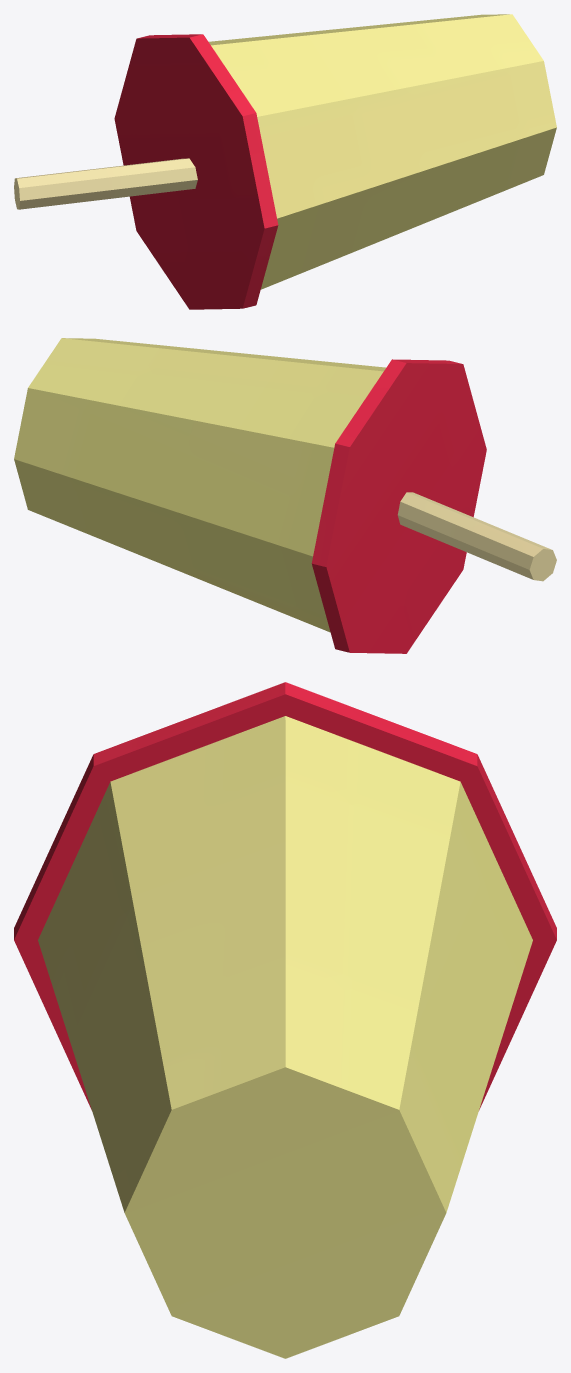
Rendered from Can01.fbx.
The picture shows the model from 3 angles, top to bottom: view 1: azimuth 30°, elevation 25°; view 2: azimuth 150°, elevation 25°; view 3: azimuth 270°, elevation 25°; orthographic projection. The views are drawn at different scales.
Visible parts, largest first — view 1: Can01; view 2: Can01; view 3: Can01.
Boxes of the visible parts, bbox=[...] form: Can01: bbox=[14, 14, 556, 309]; Can01: bbox=[14, 338, 556, 653]; Can01: bbox=[14, 682, 556, 1358].
Size of the model in its own units: 605 by 329 by 329.
